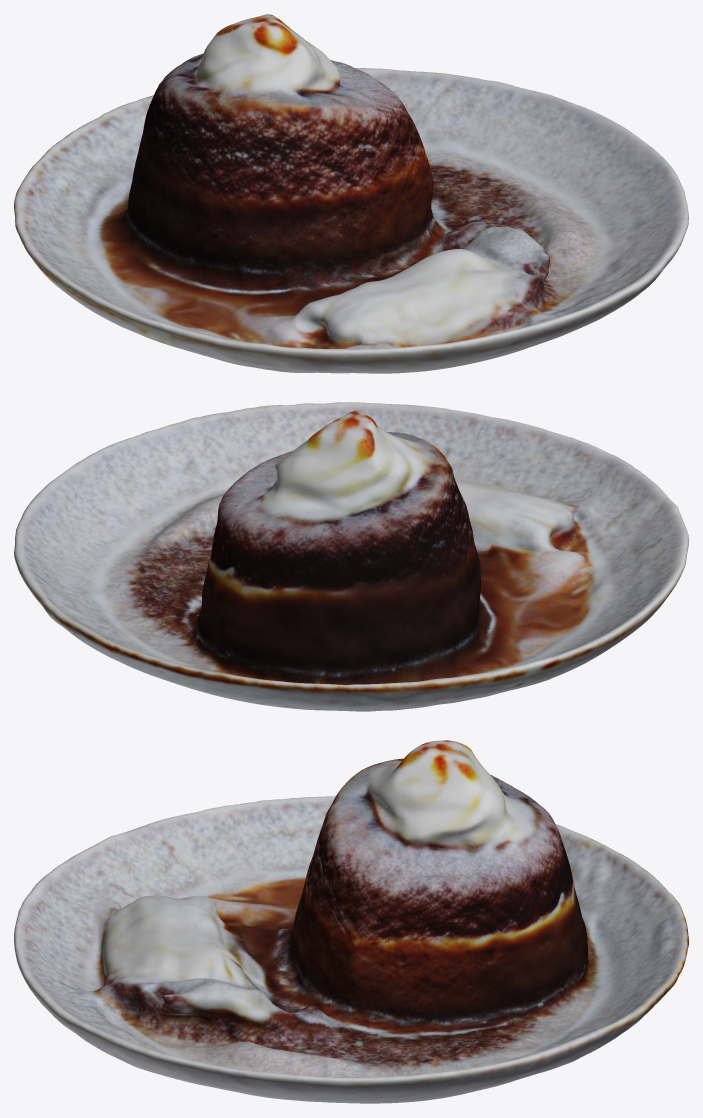
The model's file is Coulant_3D.fbx.
The picture shows the model from 3 angles, top to bottom: view 1: azimuth 30°, elevation 25°; view 2: azimuth 150°, elevation 25°; view 3: azimuth 270°, elevation 25°; orthographic projection.
Visible parts, largest first — view 1: high_poly; view 2: high_poly; view 3: high_poly.
Part boxes in pixels (box(x1,y1,x2,y2)): high_poly: box(14, 14, 688, 373); high_poly: box(14, 402, 688, 711); high_poly: box(14, 740, 688, 1103).
Bounding box in the file's own units: 99.82 × 40.16 × 100.
